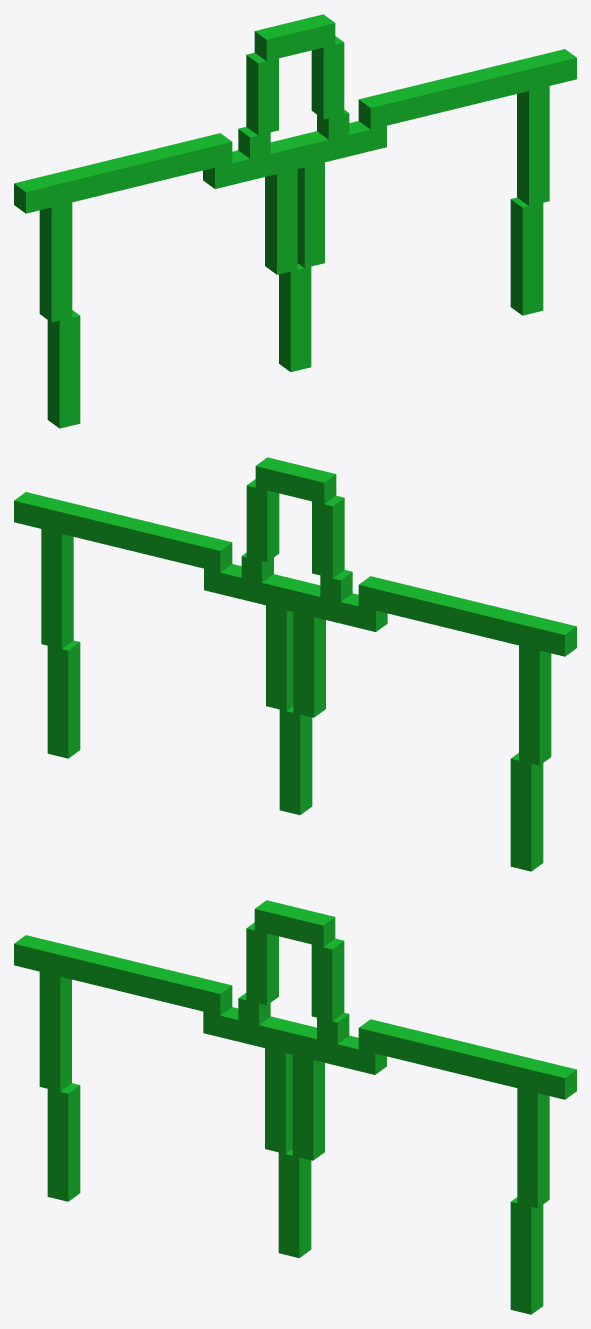
Rendered from Dynamic_1kg_0_5friction.fbx.
3 renders of one model, top to bottom at view 1: azimuth 30°, elevation 25°; view 2: azimuth 150°, elevation 25°; view 3: azimuth 330°, elevation 25°, orthographic.
Parts seen in each view (by area): view 1: D1DynamicBox10, D1DynamicBox13, D1DynamicBox4, D1DynamicBox11, D1DynamicBox15, D1DynamicBox14, D1DynamicBox12, D1DynamicBox1, D1DynamicBox3, D1DynamicBox2, D1DynamicBox9, D1DynamicBox7 (+3 smaller); view 2: D1DynamicBox10, D1DynamicBox13, D1DynamicBox4, D1DynamicBox15, D1DynamicBox14, D1DynamicBox11, D1DynamicBox12, D1DynamicBox1, D1DynamicBox3, D1DynamicBox2, D1DynamicBox9, D1DynamicBox7 (+3 smaller); view 3: D1DynamicBox10, D1DynamicBox13, D1DynamicBox4, D1DynamicBox12, D1DynamicBox11, D1DynamicBox14, D1DynamicBox15, D1DynamicBox1, D1DynamicBox2, D1DynamicBox3, D1DynamicBox9, D1DynamicBox8 (+3 smaller).
Part boxes in pixels (x1,y1,x2,y2): D1DynamicBox10: (14, 133, 232, 213); D1DynamicBox13: (358, 49, 576, 129); D1DynamicBox4: (203, 121, 386, 188); D1DynamicBox11: (39, 202, 72, 322); D1DynamicBox15: (510, 197, 543, 315); D1DynamicBox14: (517, 86, 549, 205); D1DynamicBox12: (47, 310, 80, 428); D1DynamicBox1: (279, 263, 311, 371); D1DynamicBox3: (265, 169, 297, 274); D1DynamicBox2: (297, 162, 324, 267); D1DynamicBox9: (254, 14, 335, 61); D1DynamicBox7: (246, 52, 278, 135); D1DynamicBox10: (358, 576, 576, 656); D1DynamicBox13: (14, 492, 232, 572); D1DynamicBox4: (204, 564, 387, 631); D1DynamicBox15: (47, 640, 80, 758); D1DynamicBox14: (41, 529, 73, 648); D1DynamicBox11: (519, 645, 551, 765); D1DynamicBox12: (510, 753, 543, 871); D1DynamicBox1: (279, 706, 312, 814); D1DynamicBox3: (293, 612, 325, 717); D1DynamicBox2: (266, 605, 293, 710); D1DynamicBox9: (255, 457, 336, 504); D1DynamicBox7: (312, 495, 344, 578); D1DynamicBox10: (14, 935, 232, 1015); D1DynamicBox13: (358, 1019, 576, 1099); D1DynamicBox4: (203, 1007, 386, 1074); D1DynamicBox12: (47, 1083, 80, 1201); D1DynamicBox11: (39, 971, 71, 1091); D1DynamicBox14: (517, 1088, 549, 1208); D1DynamicBox15: (510, 1197, 543, 1314); D1DynamicBox1: (278, 1149, 311, 1258); D1DynamicBox2: (292, 1055, 324, 1160); D1DynamicBox3: (265, 1048, 292, 1153); D1DynamicBox9: (254, 900, 335, 947); D1DynamicBox8: (311, 938, 344, 1021).
Size of what is drawn, in the model's own units: 80.11 by 47 by 3.02.
